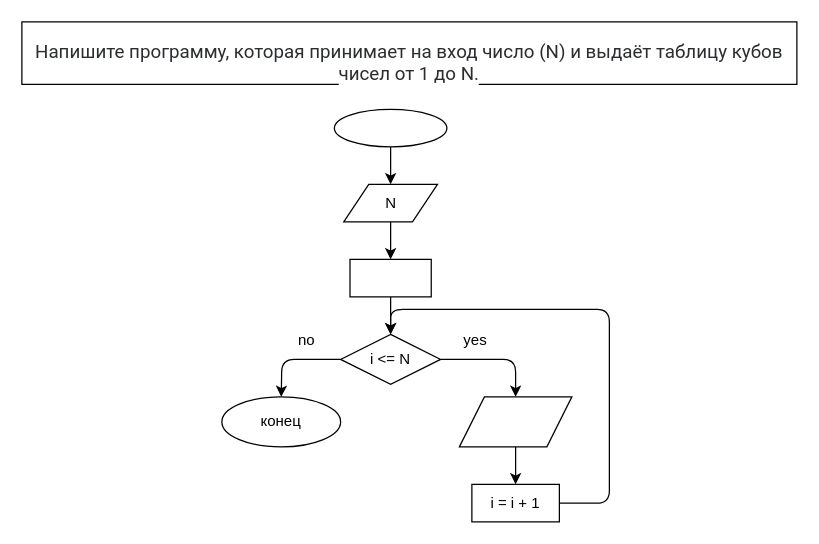
Image size: 819x544. Some labels were removed from this diagram. Here are the shapes that lost their labels. From the top down, the box of each, then its label:
(333, 108, 447, 147): старт
(349, 258, 431, 297): i = 1
(458, 396, 572, 447): i * i * i
